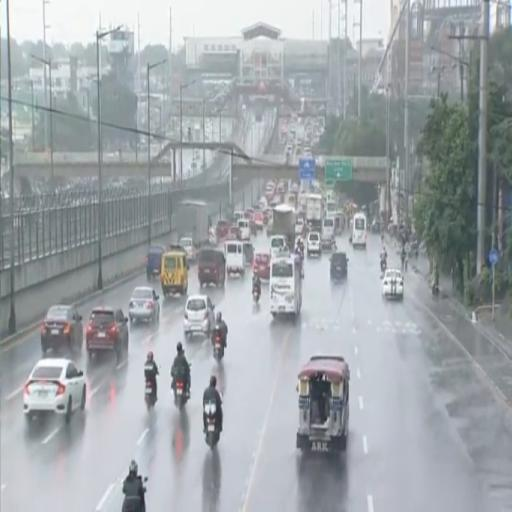car: (24, 359, 86, 422), (86, 307, 128, 361), (41, 306, 83, 355), (183, 295, 214, 338), (128, 286, 160, 322), (382, 268, 404, 299), (179, 237, 196, 261), (306, 232, 321, 257), (254, 212, 263, 231), (295, 218, 303, 235)
jeepney: (297, 356, 350, 453)
motorcycle: (122, 477, 148, 511), (204, 402, 220, 449), (172, 376, 189, 410), (174, 379, 188, 409), (212, 326, 224, 361), (145, 380, 156, 410), (252, 284, 260, 303), (432, 284, 439, 298), (381, 259, 386, 273)
truck: (177, 200, 209, 247), (272, 204, 296, 250), (306, 194, 323, 232)
